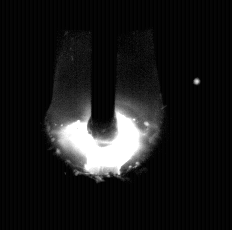arame: (92, 0, 117, 140)
poca: (45, 0, 163, 230)
